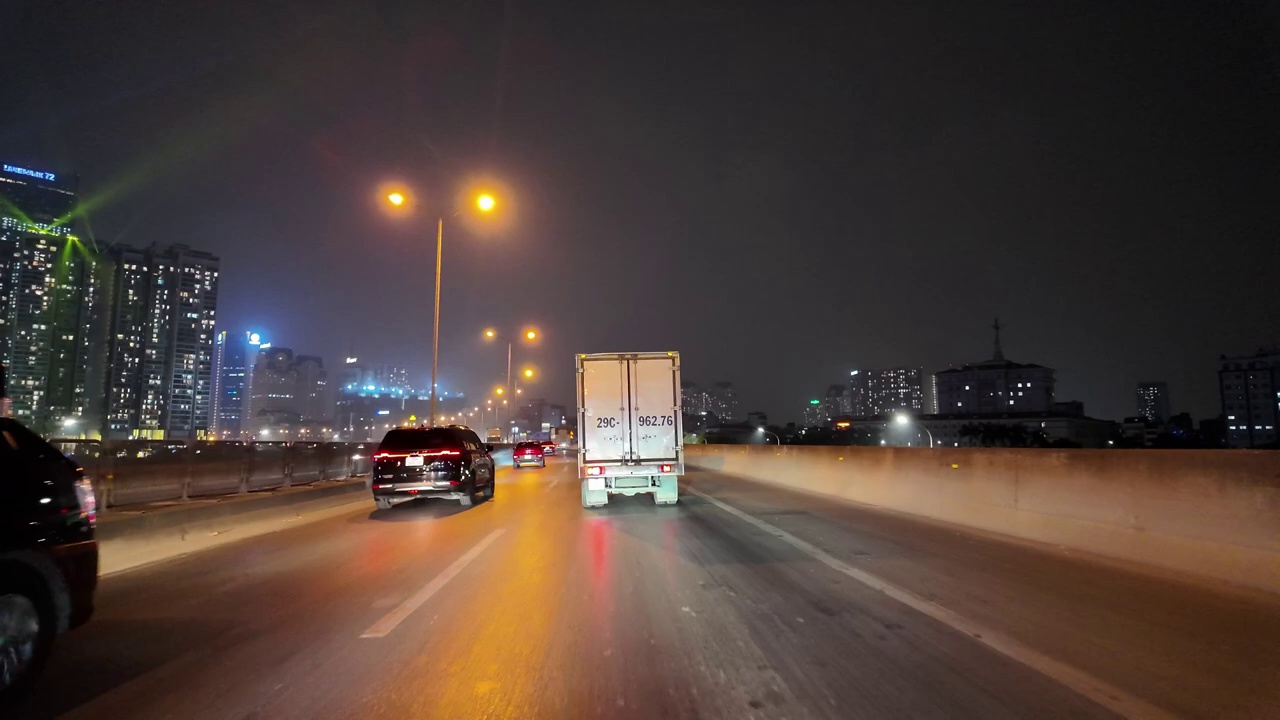acesa: (465, 184, 506, 223), (381, 183, 414, 215), (518, 324, 543, 346), (478, 324, 500, 347), (518, 362, 541, 384)
